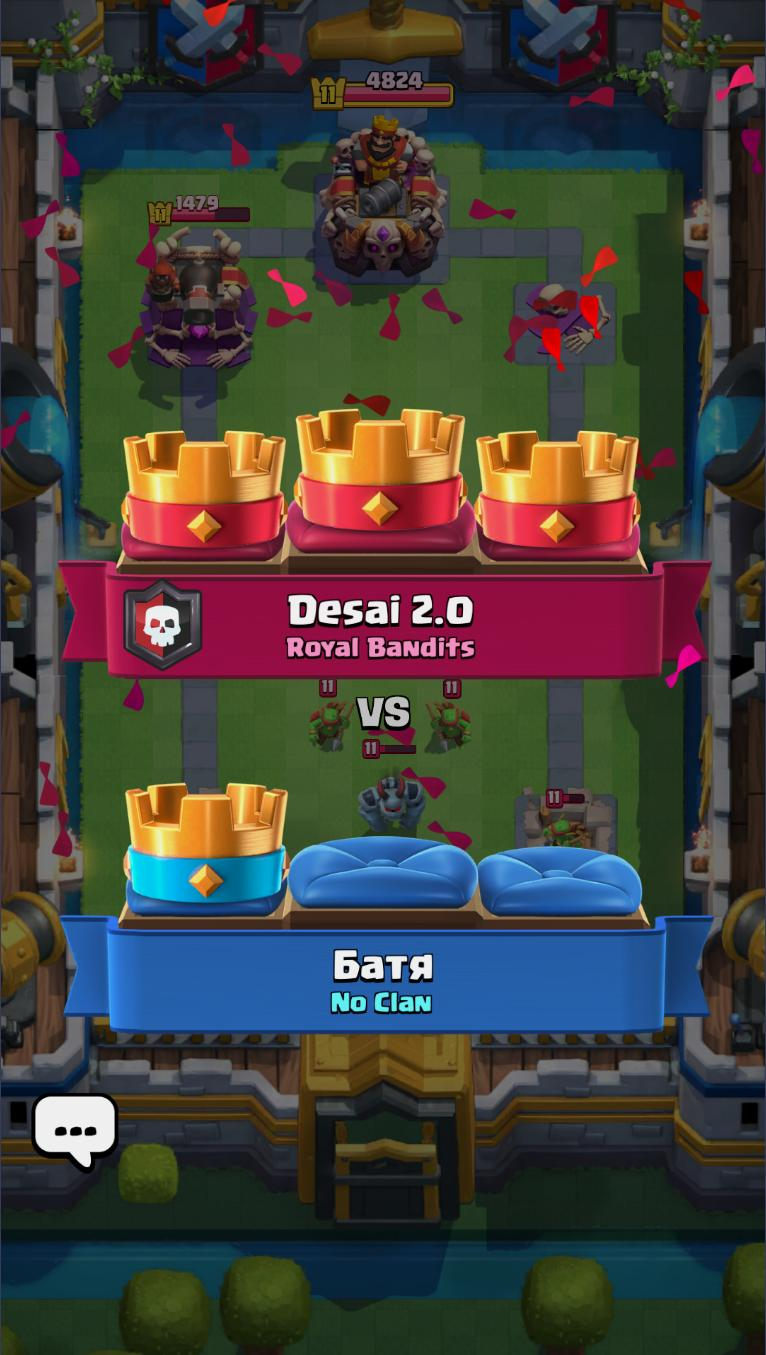Cannoneer: (143, 246, 225, 329)
EnemyTower: (139, 225, 259, 375)
EnemyTowerBrocken: (508, 281, 621, 371)
KingTower: (313, 112, 453, 284)
KingTowerHP: (309, 67, 457, 110)
Lose_3-1: (58, 406, 710, 1034)
MegaMinion: (356, 742, 429, 839)
MyPrincessTowerBrocken: (513, 791, 627, 855), (140, 793, 254, 851)
SpearGoblin: (426, 679, 480, 755), (301, 677, 354, 753), (544, 790, 590, 851)
TowerPrincessHP: (146, 193, 253, 227)
